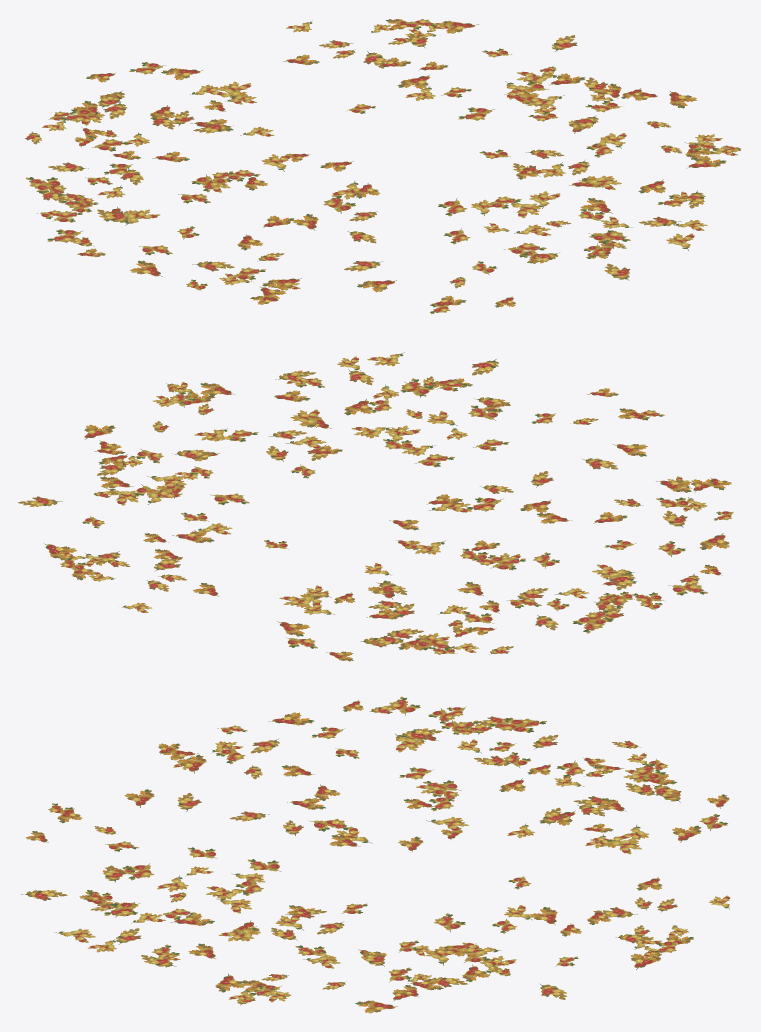
The model's file is pommier_adulte_b.fbx.
The picture shows the model from 3 angles, top to bottom: view 1: azimuth 30°, elevation 25°; view 2: azimuth 150°, elevation 25°; view 3: azimuth 270°, elevation 25°; orthographic projection. The views are drawn at different scales.
Visible parts, largest first — view 1: pommier_adulte_b_feuilles_sol; view 2: pommier_adulte_b_feuilles_sol; view 3: pommier_adulte_b_feuilles_sol.
Part boxes in pixels (box(x1,y1,x2,y2)): pommier_adulte_b_feuilles_sol: box(25, 19, 740, 313); pommier_adulte_b_feuilles_sol: box(18, 352, 733, 661); pommier_adulte_b_feuilles_sol: box(21, 696, 730, 1013).
Size of what is drawn, in the model's own units: 7 by 0.00587 by 6.7.
